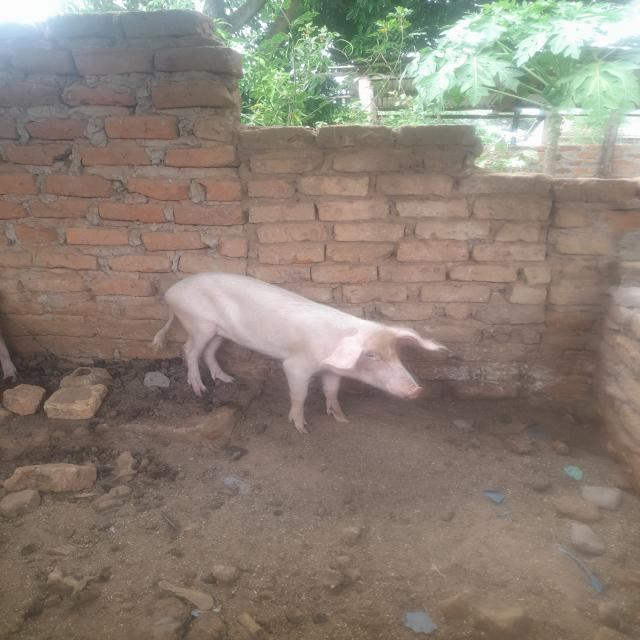pig: (116, 232, 481, 484)
